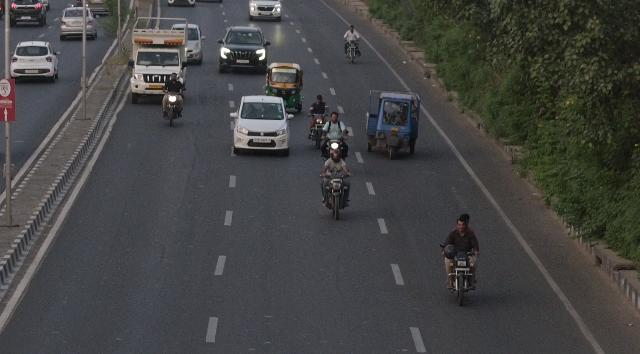With Helmet: (330, 150, 342, 164)
Without Helmet: (454, 212, 472, 230), (329, 110, 338, 124), (170, 71, 178, 83), (315, 94, 323, 104)
